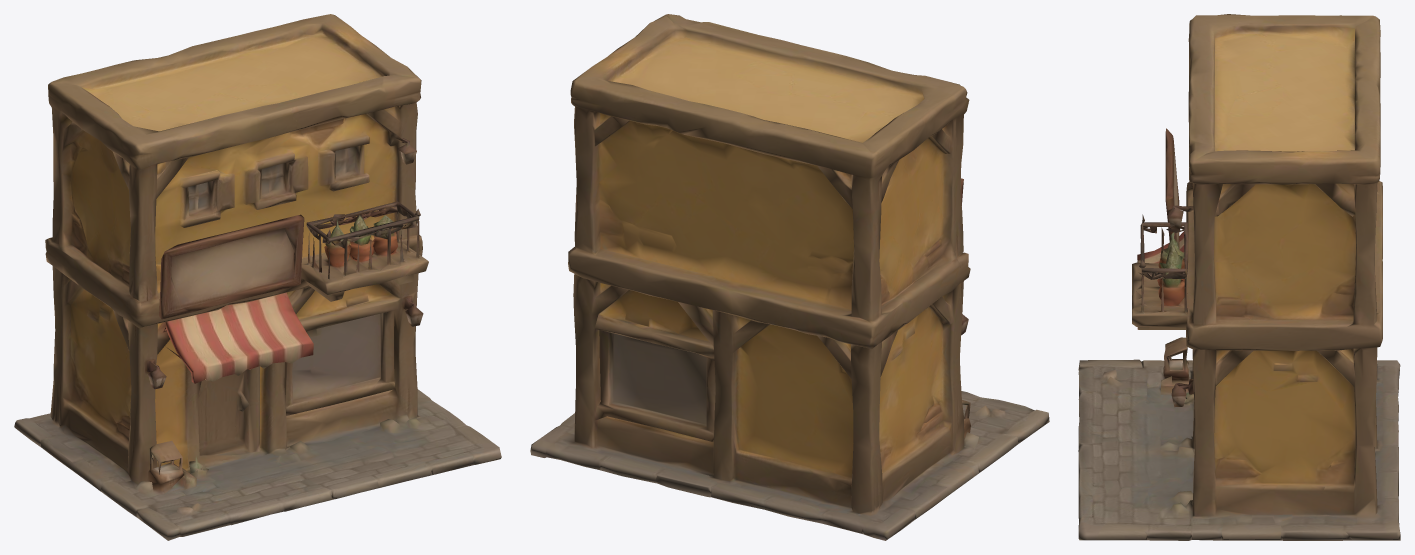
The model's file is anambra_shopfront_a.glb.
3 views of the same model, side by side, from view 1: azimuth 30°, elevation 25°; view 2: azimuth 150°, elevation 25°; view 3: azimuth 270°, elevation 25° (orthographic). The views are drawn at different scales.
Parts seen in each view (by area): view 1: tripo_node_570a3b48-3d99-4dbc-84c1-c93abaeacf36; view 2: tripo_node_570a3b48-3d99-4dbc-84c1-c93abaeacf36; view 3: tripo_node_570a3b48-3d99-4dbc-84c1-c93abaeacf36.
Part boxes in pixels (x1,y1,x2,y2): tripo_node_570a3b48-3d99-4dbc-84c1-c93abaeacf36: (14, 14, 501, 540); tripo_node_570a3b48-3d99-4dbc-84c1-c93abaeacf36: (530, 14, 1049, 540); tripo_node_570a3b48-3d99-4dbc-84c1-c93abaeacf36: (1078, 14, 1400, 540).
Size of the model in its own units: 1 by 0.9919 by 0.7889.
Materials: 1 (1 with a texture image).
